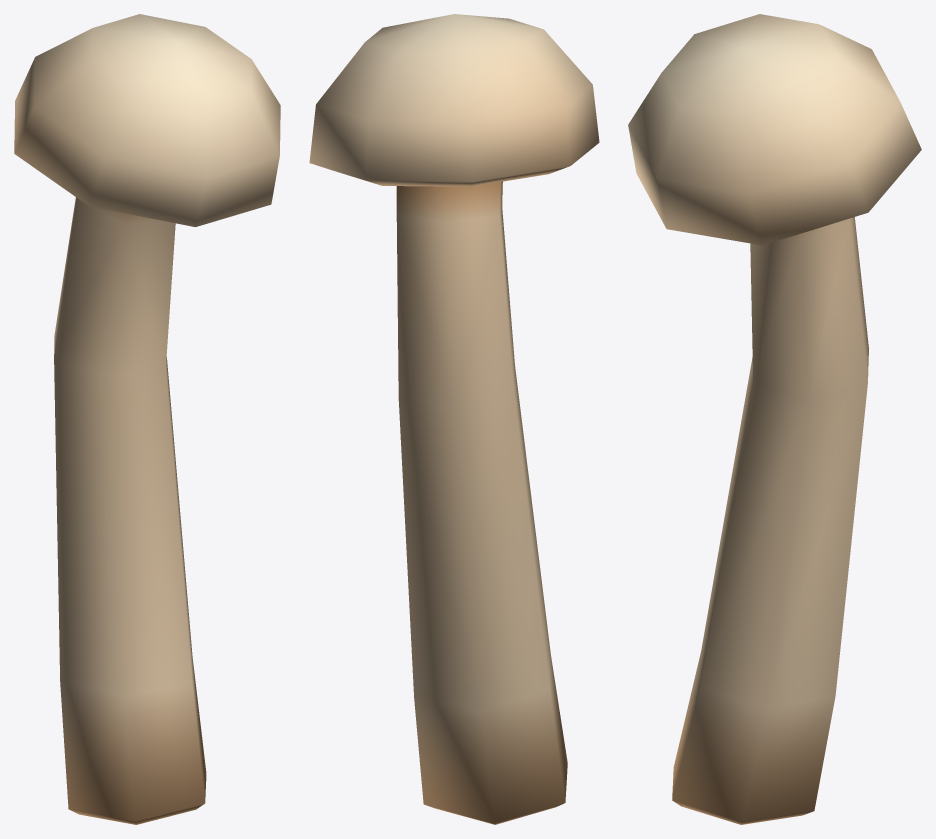
The model's file is SM_WhiteBeech_B.fbx.
The picture shows the model from 3 angles, left to right: view 1: azimuth 30°, elevation 25°; view 2: azimuth 150°, elevation 25°; view 3: azimuth 270°, elevation 25°; orthographic projection. The views are drawn at different scales.
Parts seen in each view (by area): view 1: SM_WhiteBeech_B; view 2: SM_WhiteBeech_B; view 3: SM_WhiteBeech_B.
Part boxes in pixels (x1=…): SM_WhiteBeech_B: x1=14, y1=14, x2=280, y2=824; SM_WhiteBeech_B: x1=309, y1=14, x2=599, y2=824; SM_WhiteBeech_B: x1=628, y1=14, x2=921, y2=824.
Size of the model in its own units: 5.13 by 15.11 by 5.2.
